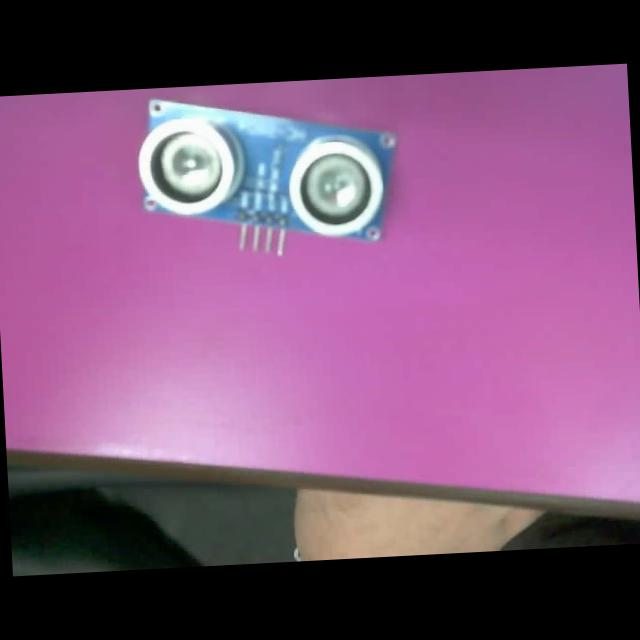ultrasonic_hc-sr04: (135, 86, 402, 263)
